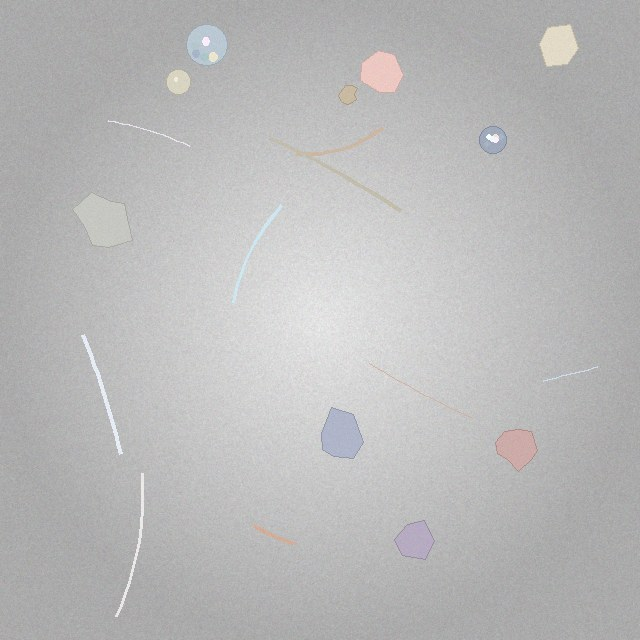fiber: (266, 133, 405, 214), (368, 361, 473, 419), (78, 330, 125, 458), (230, 203, 284, 306), (113, 470, 146, 620), (293, 124, 387, 159), (106, 118, 192, 148), (251, 522, 299, 548), (541, 365, 600, 384), (456, 25, 497, 50)
foam: (186, 24, 227, 65), (480, 127, 506, 154)
fragment: (73, 192, 132, 247), (322, 407, 364, 459), (361, 51, 404, 93), (496, 430, 537, 472), (540, 24, 579, 66), (394, 520, 434, 560), (338, 86, 357, 104)
pellet: (166, 70, 191, 94)
